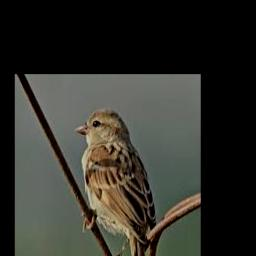Sparrow: (74, 109, 156, 256)
